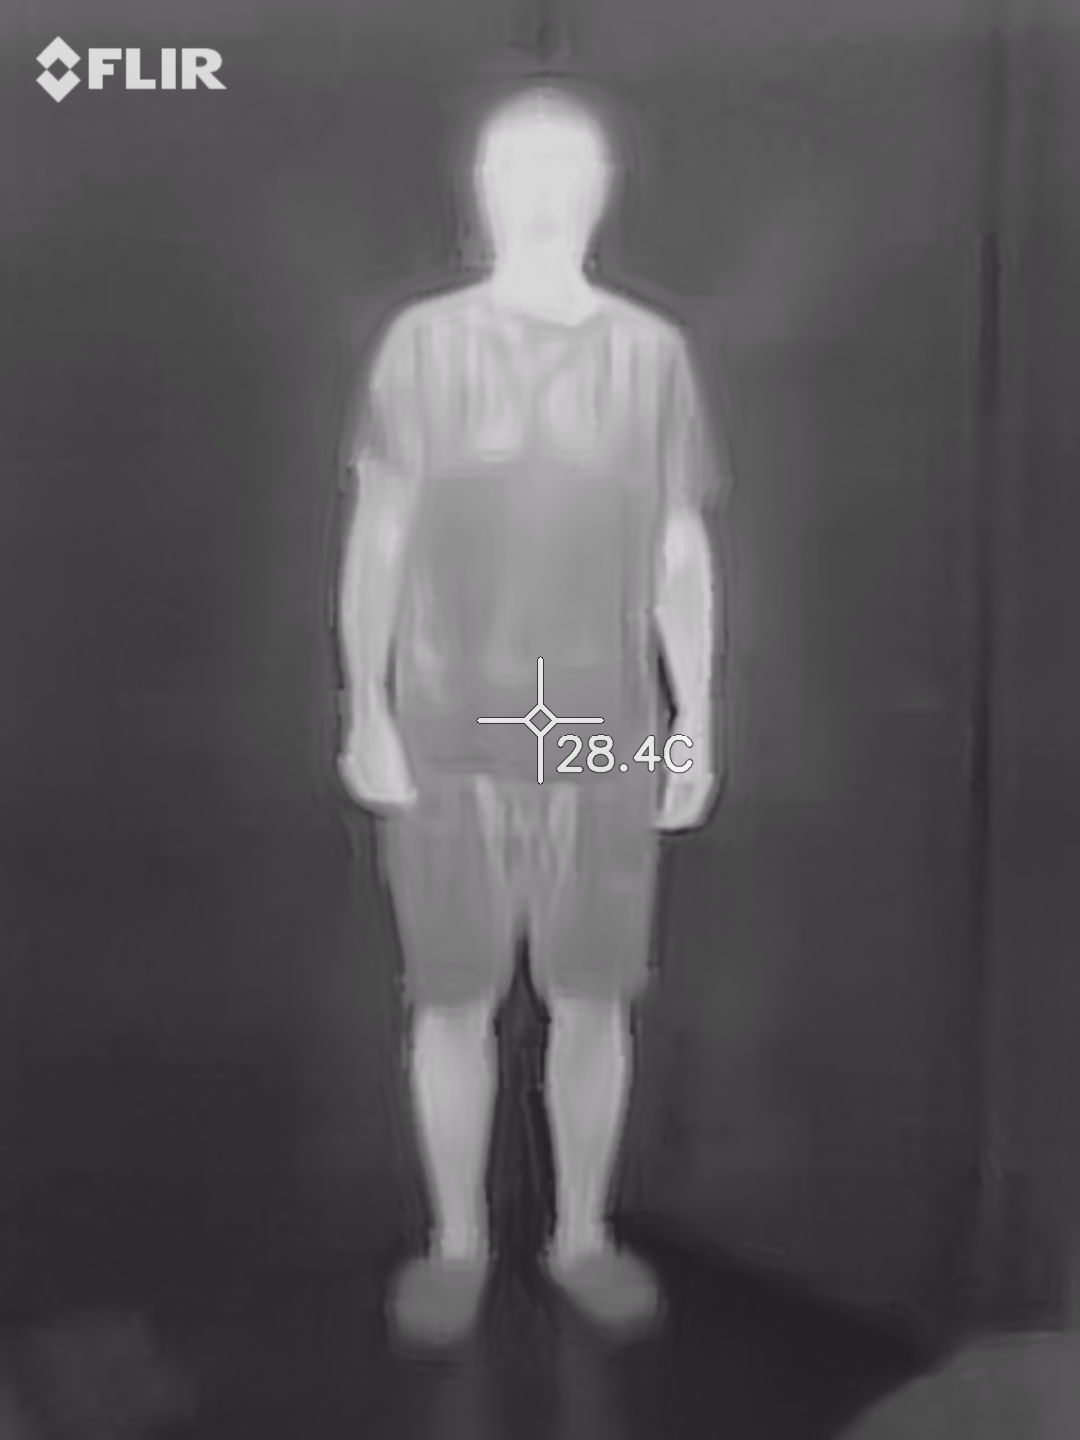head: (475, 87, 615, 269)
